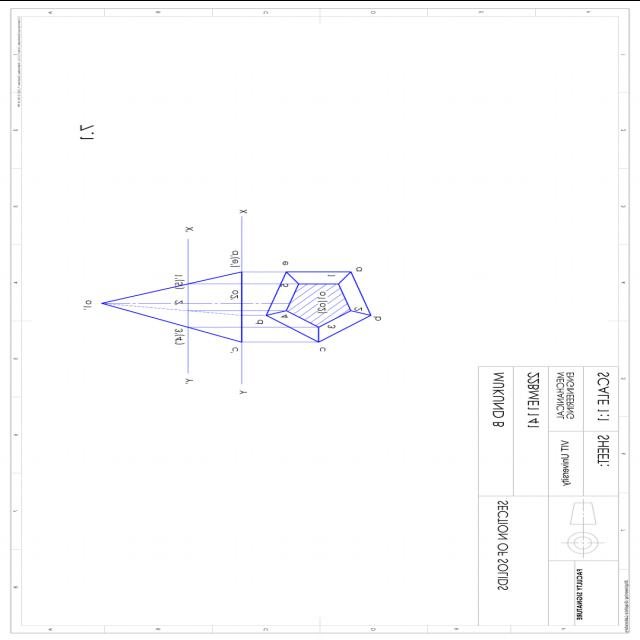Drawings: (75, 242, 389, 370)
